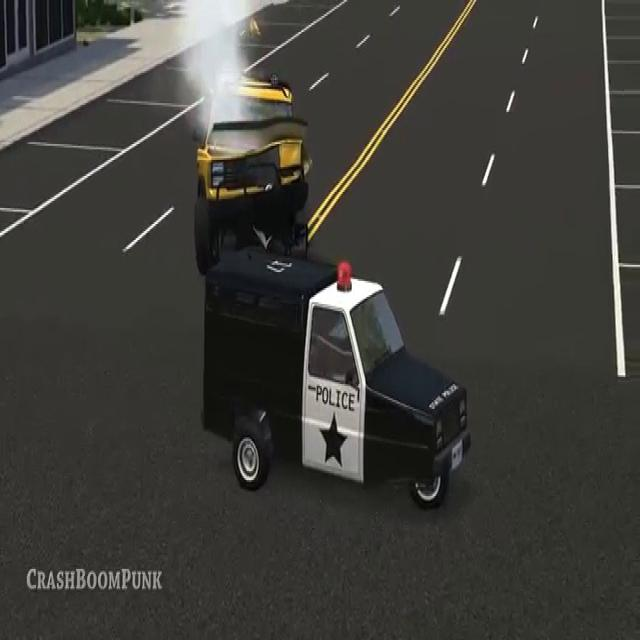severe: (190, 55, 468, 512)
